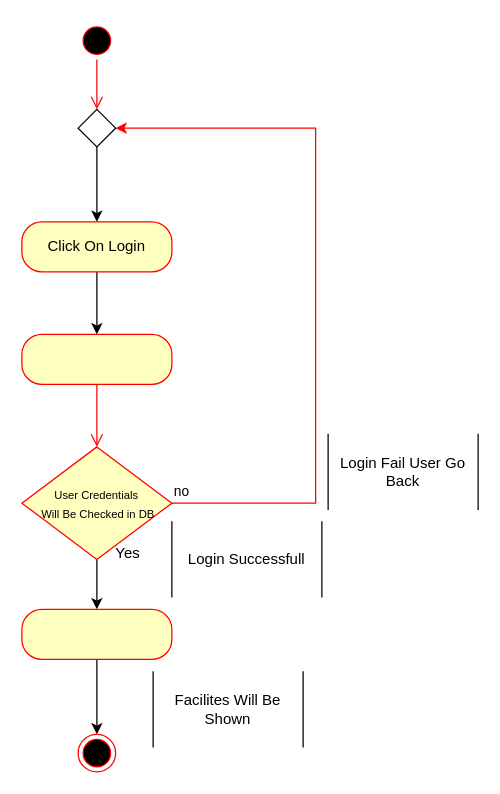
This 500x794 diagram has some shape labels left out. Each missing label, with the centre of its shape:
"Click On View Facilities" goes at (x=96, y=633).
"User Enter Credentials" goes at (x=96, y=358).
